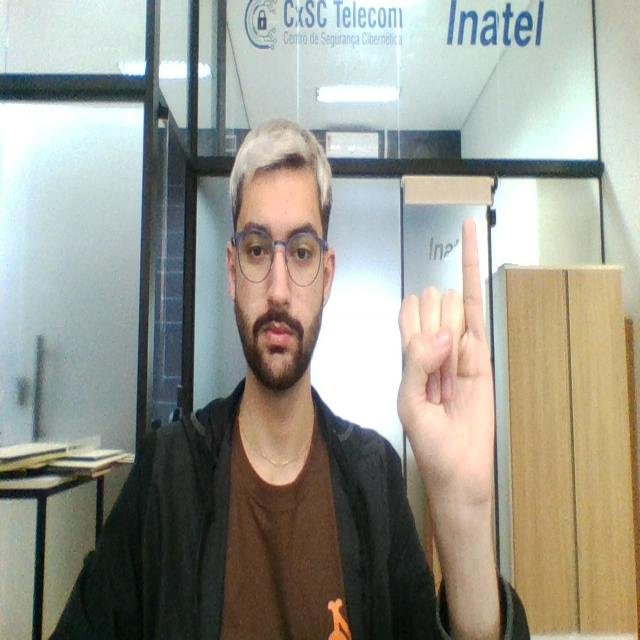I: (395, 210, 500, 514)
